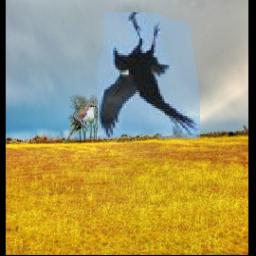Crow: (98, 12, 200, 139)
Cuckoo: (64, 103, 96, 144)
